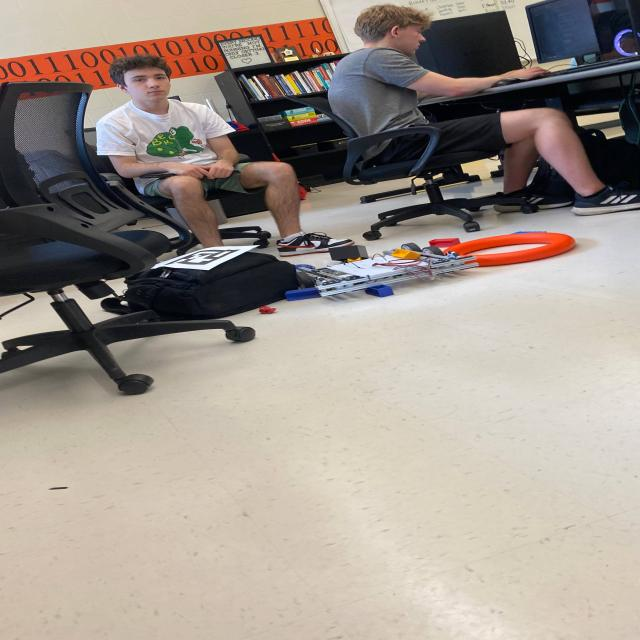blue-specimen: (286, 287, 321, 301), (365, 285, 394, 297)
red-specimen: (429, 238, 460, 249)
yellow-specimen: (391, 248, 421, 261)
